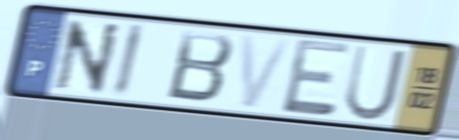B: (163, 27, 237, 106)
E: (279, 35, 353, 119)
I: (109, 20, 148, 101)
N: (51, 18, 125, 97)
U: (341, 42, 410, 124)
V: (238, 32, 296, 112)
